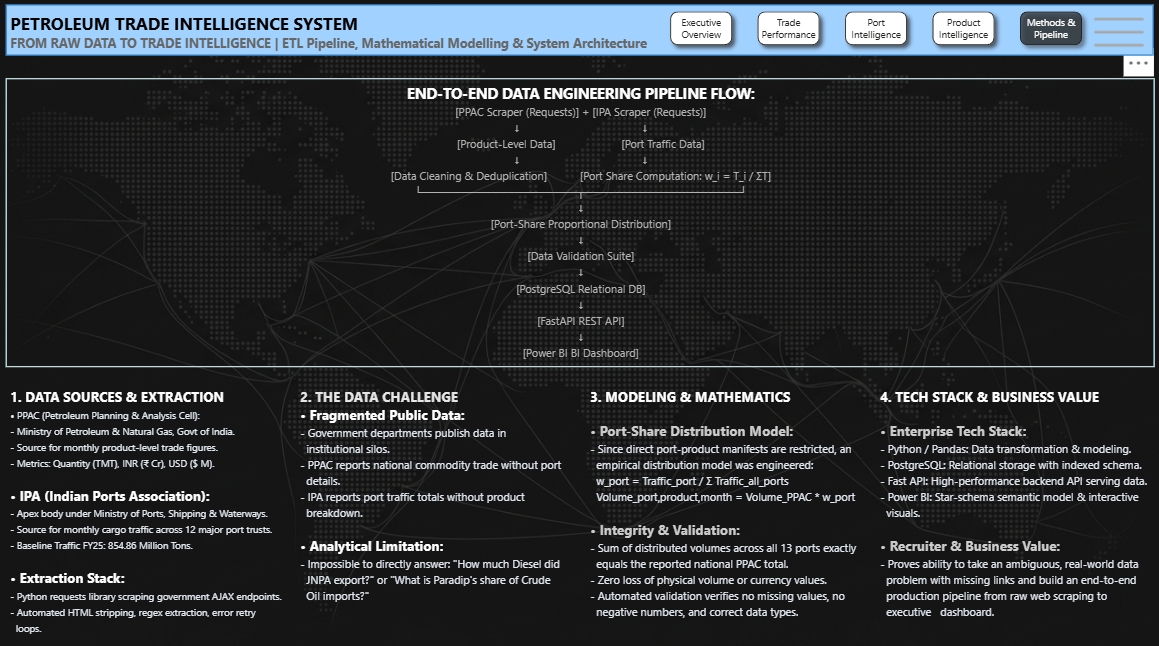

What the dashboard file says about the page in this screenshot:
{"tool":"powerbi","page":{"name":"Methods & Pipeline","canvas":[1280,720],"ordinal":4},"visuals":[{"type":"textbox","box":[9.6,89.2,1261.1,317],"z":0},{"type":"textbox","box":[9.6,424.6,308.7,285.4],"z":1000},{"type":"textbox","box":[328,424.6,307.4,263.5],"z":2000},{"type":"textbox","box":[646.3,424.6,307.4,273.1],"z":3000},{"type":"textbox","box":[964.7,424.6,307.4,273.1],"z":4000},{"type":"shape","box":[10,8,1260,56],"z":5000},{"type":"textbox","box":[10,11.4,852.9,58.6],"z":6000},{"type":"pageNavigator","box":[730,7.1,471.2,55],"z":7000},{"type":"image","box":[1193.8,0,78.6,80],"z":7001}]}

Visuals, with their boxes in screenshot pixels (x1, y1, x2, y2), scaled from the page's 1280x720 canvas onto the 1159x646 screenshot:
textbox: locate(9, 80, 1151, 364)
textbox: locate(9, 381, 288, 637)
textbox: locate(297, 381, 575, 617)
textbox: locate(585, 381, 864, 626)
textbox: locate(874, 381, 1152, 626)
shape: locate(9, 7, 1150, 57)
textbox: locate(9, 10, 781, 63)
pageNavigator: locate(661, 6, 1088, 56)
image: locate(1081, 0, 1152, 72)
